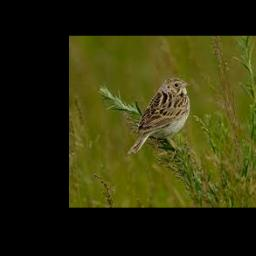Sparrow: (127, 77, 190, 155)
